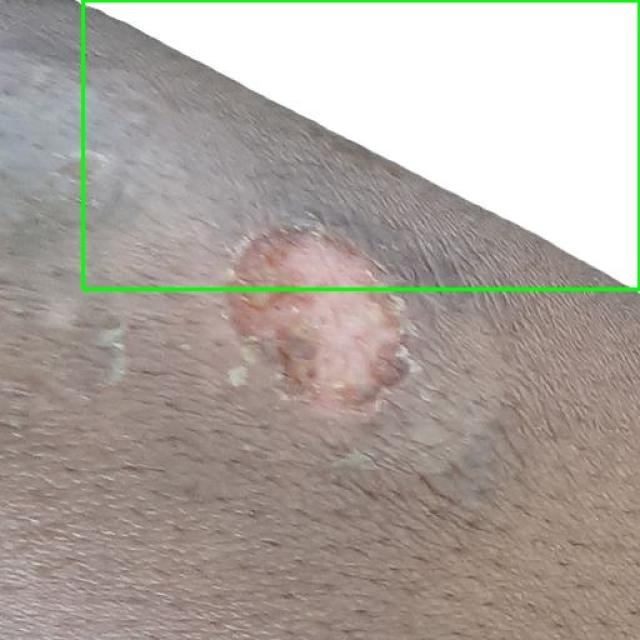Contact Dermatitis: (82, 0, 639, 289)
